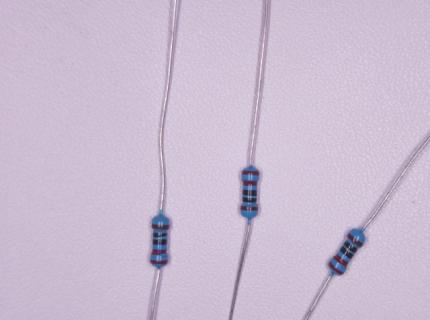Red band: (328, 261, 344, 275), (333, 254, 348, 267), (152, 249, 166, 255), (243, 180, 257, 186), (151, 260, 168, 264), (242, 171, 259, 175)
